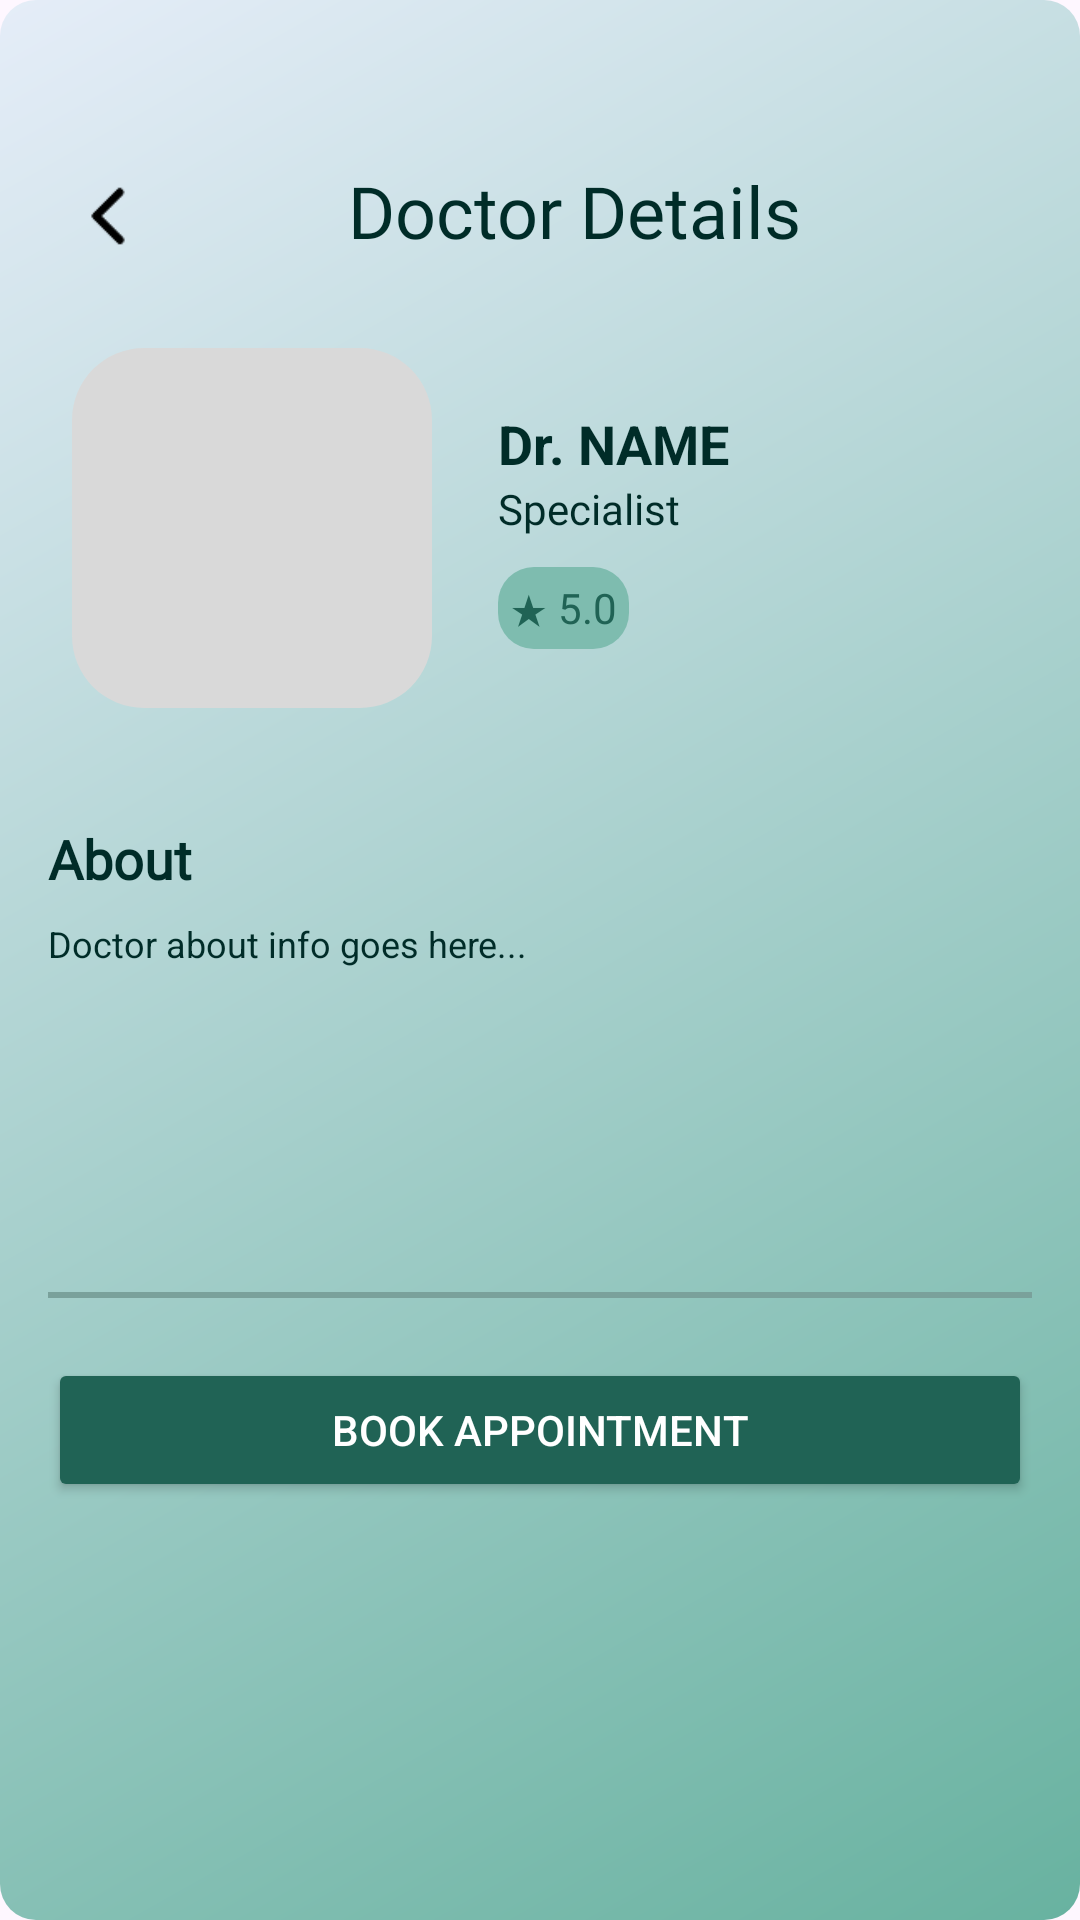

Named icons in this screenshot (1080*1920) and their bounding boxes, (x1, y1, x2, y2):
Back: (91, 187, 125, 245)
